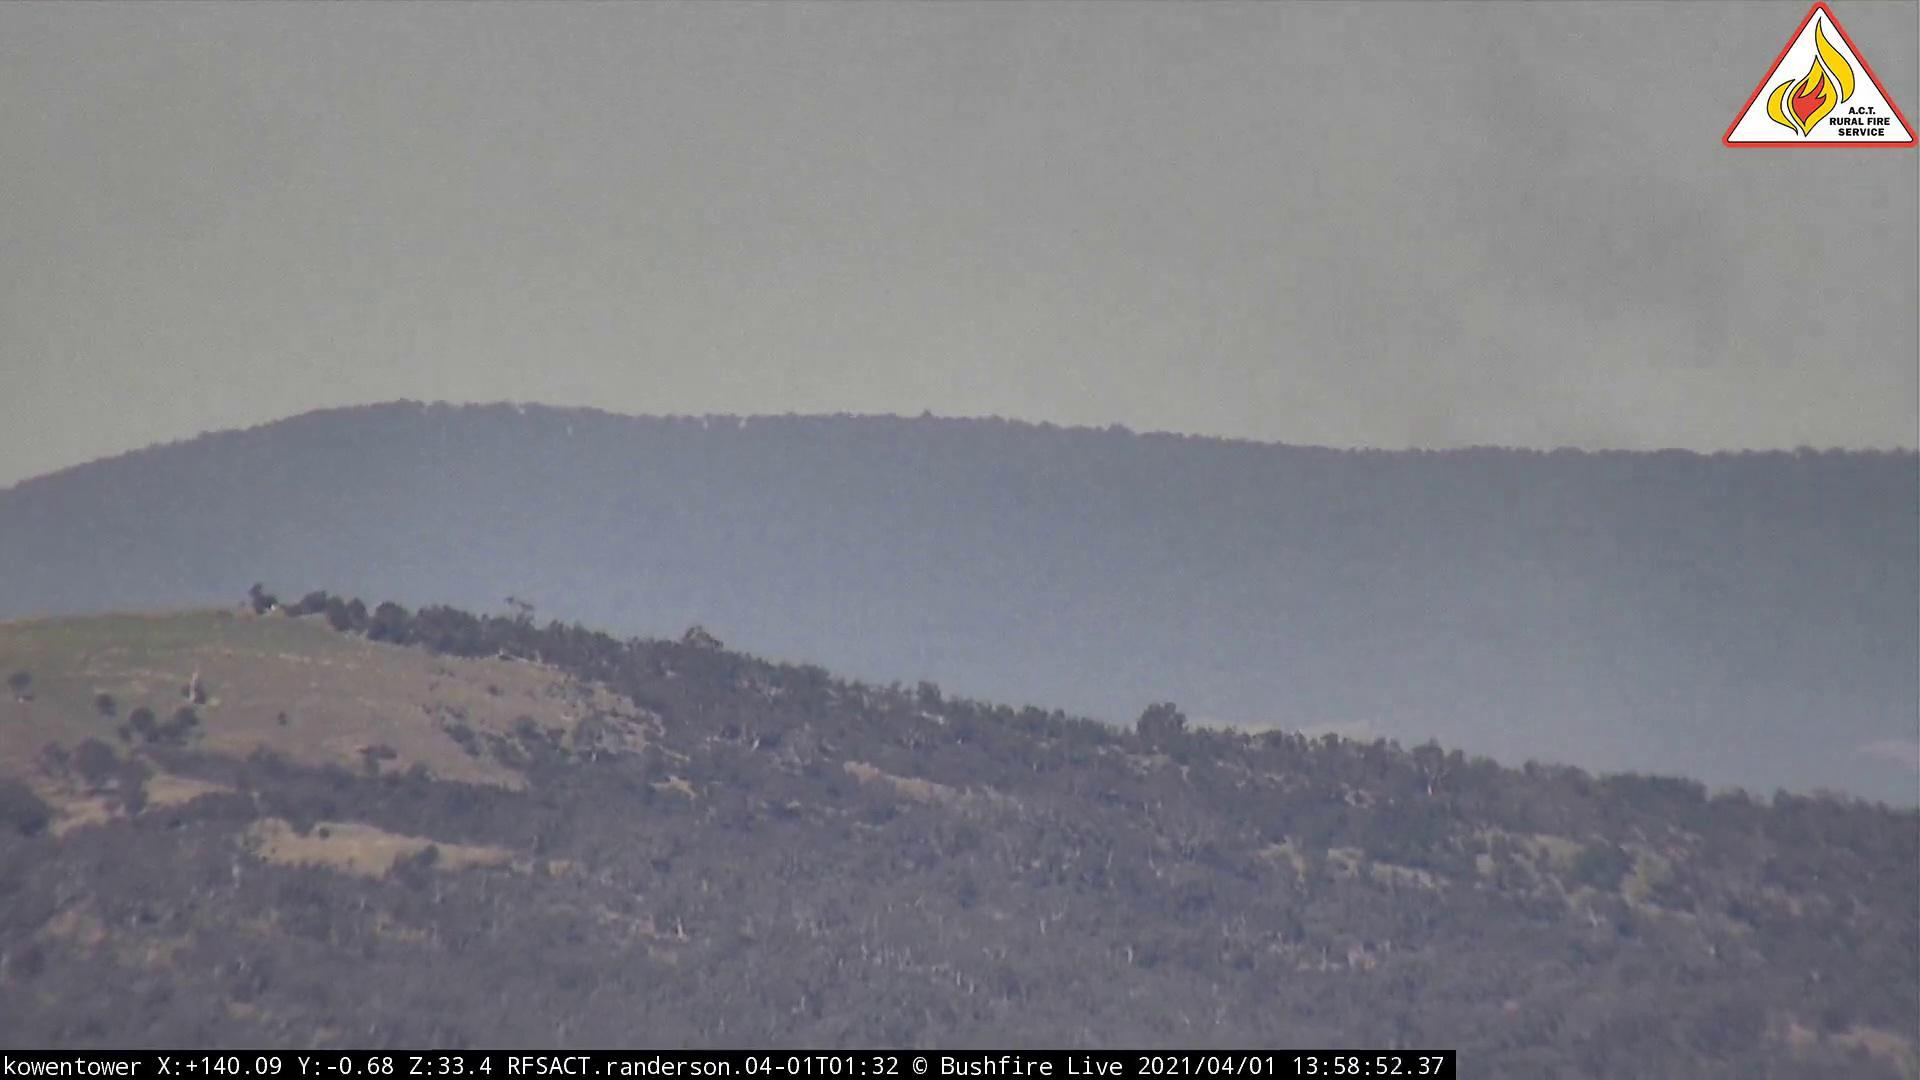Smoke: (1313, 158, 1807, 595)
